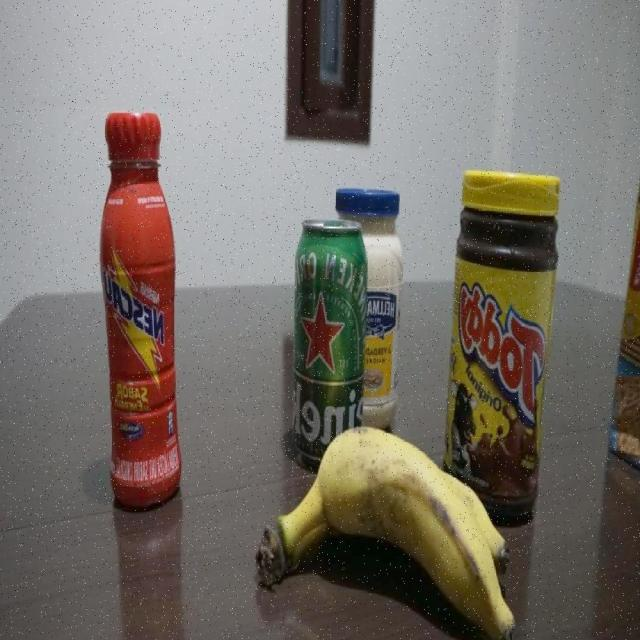Banana: (252, 425, 517, 640)
BeerCan: (292, 215, 371, 474)
ChocolateMilk: (98, 107, 183, 510)
ChocolatePowder: (441, 170, 562, 526)
Cracker: (607, 137, 640, 483)
Mayonnaise: (331, 178, 404, 437)
